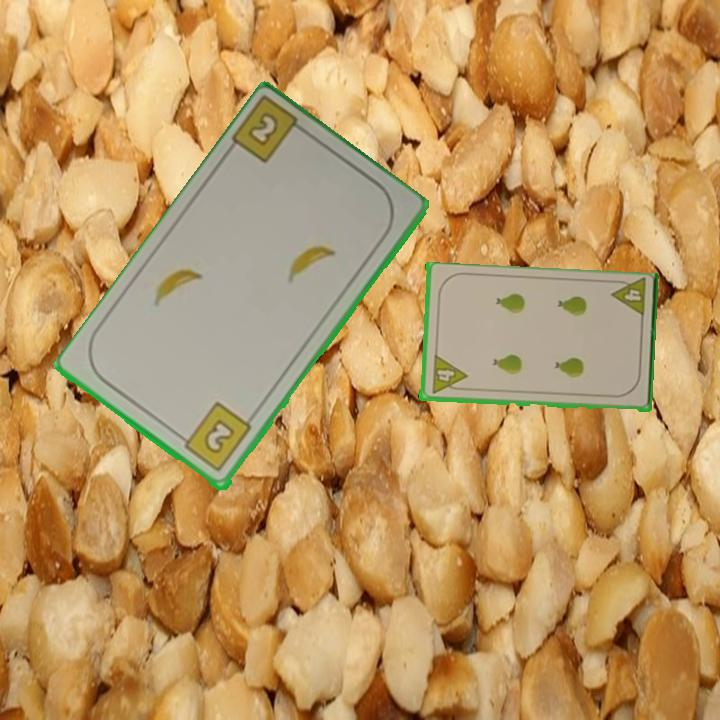2b: (175, 399, 255, 475), (228, 96, 313, 167)
4p: (608, 276, 649, 321), (428, 352, 468, 397)
